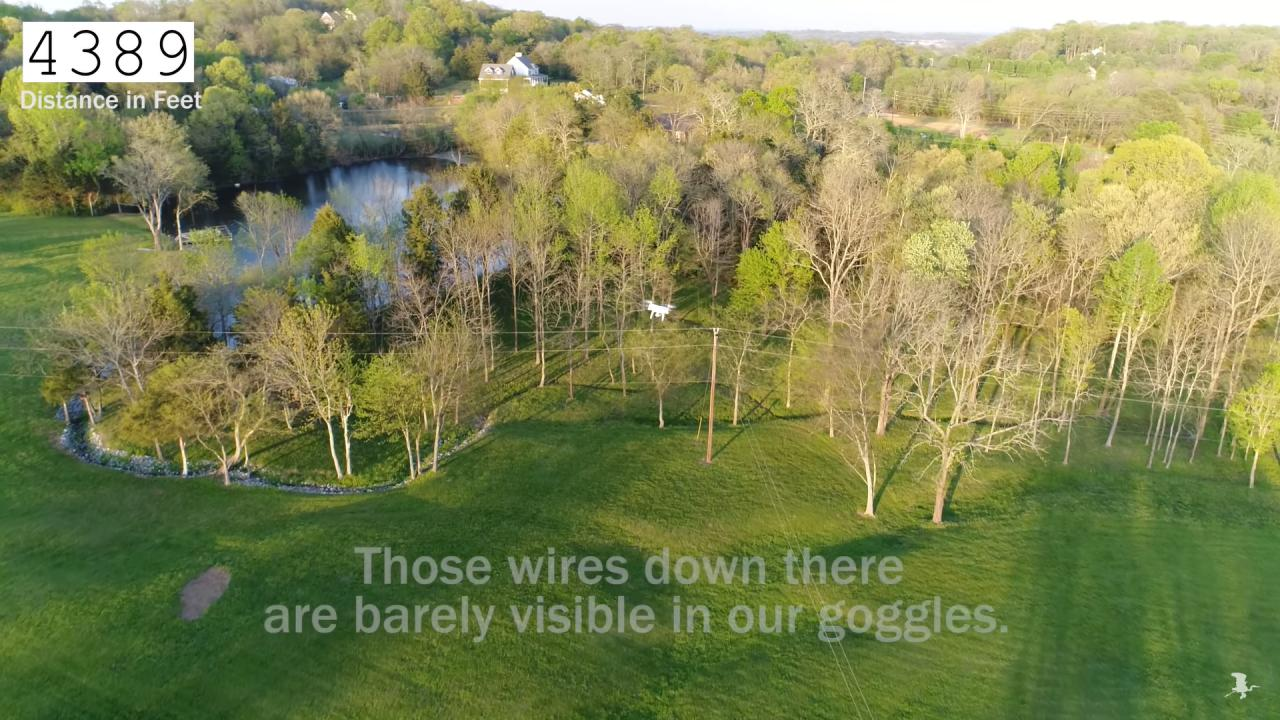Drone: (636, 294, 682, 329)
